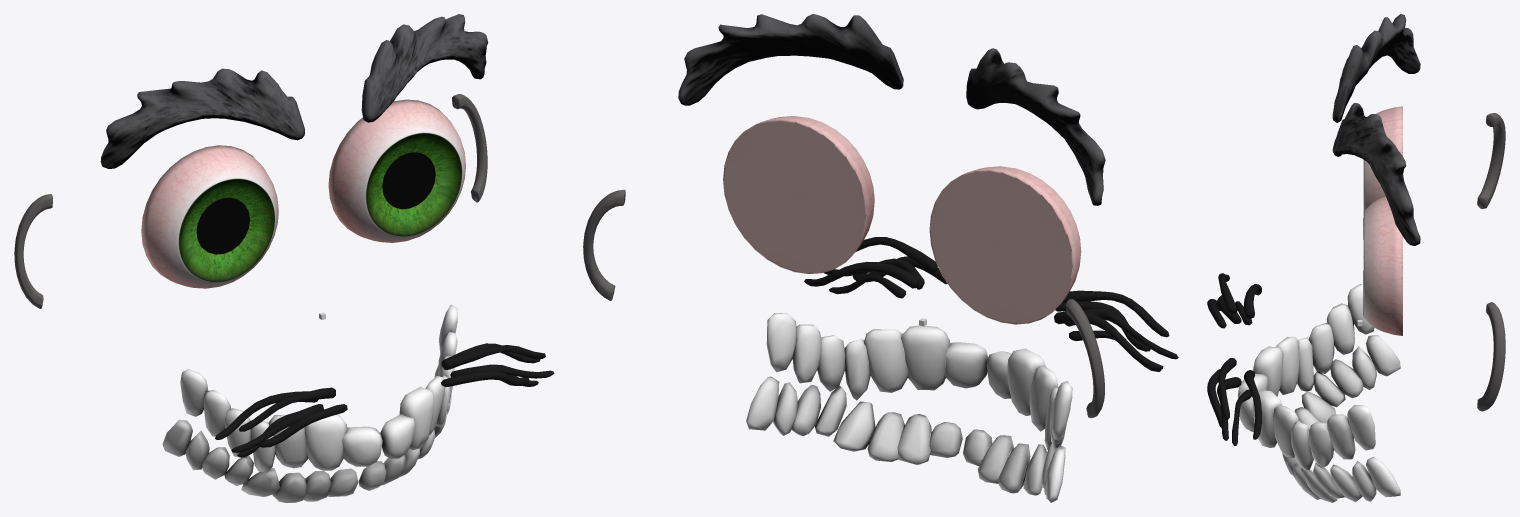
File: creepy_cat.gltf.glb
3 views of the same model, side by side, from view 1: azimuth 30°, elevation 25°; view 2: azimuth 150°, elevation 25°; view 3: azimuth 270°, elevation 25° (orthographic). The views are drawn at different scales.
Parts seen in each view (by area): view 1: eyes, Group10022.001, Group44309, Group50397, Cylinder__0, Group62066; view 2: eyes, Group10022.001, Group44309, Group50397, Group62066; view 3: Group10022.001, Group44309, eyes, Group50397, Group62066.
Boxes of the visible parts, x1,y1,x2,y2 form: eyes: [141, 99, 465, 288]; Group10022.001: [162, 305, 457, 502]; Group44309: [100, 14, 488, 168]; Group50397: [215, 343, 554, 457]; Cylinder__0: [196, 152, 435, 254]; Group62066: [14, 94, 487, 308]; eyes: [723, 116, 1081, 324]; Group10022.001: [746, 313, 1072, 502]; Group44309: [678, 14, 1105, 205]; Group50397: [804, 237, 1178, 371]; Group62066: [583, 189, 1104, 417]; Group10022.001: [1237, 284, 1400, 502]; Group44309: [1332, 14, 1420, 245]; eyes: [1363, 106, 1402, 335]; Group50397: [1207, 273, 1261, 445]; Group62066: [1477, 113, 1505, 411].
Size of the model in its own units: 211 by 180 by 122.
Materials: 6 (3 with a texture image).
